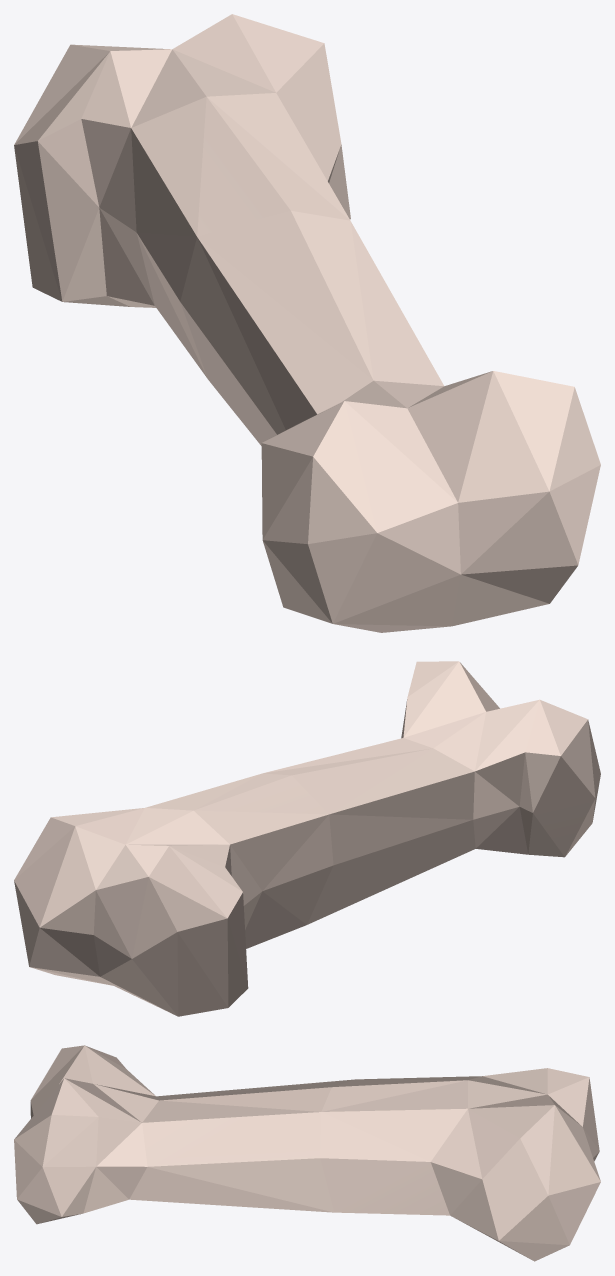
The model's file is deadSkelly_bone (2).fbx.
3 views of the same model, one above another, from view 1: azimuth 30°, elevation 25°; view 2: azimuth 150°, elevation 25°; view 3: azimuth 270°, elevation 25° (orthographic). The views are drawn at different scales.
Parts seen in each view (by area): view 1: deadSkelly_bone (2); view 2: deadSkelly_bone (2); view 3: deadSkelly_bone (2).
Part boxes in pixels (bbox=[...]): deadSkelly_bone (2): bbox=[14, 14, 600, 632]; deadSkelly_bone (2): bbox=[14, 661, 600, 1016]; deadSkelly_bone (2): bbox=[14, 1045, 600, 1261].
Size of the model in its own units: 0.2147 by 0.1231 by 0.4008.
